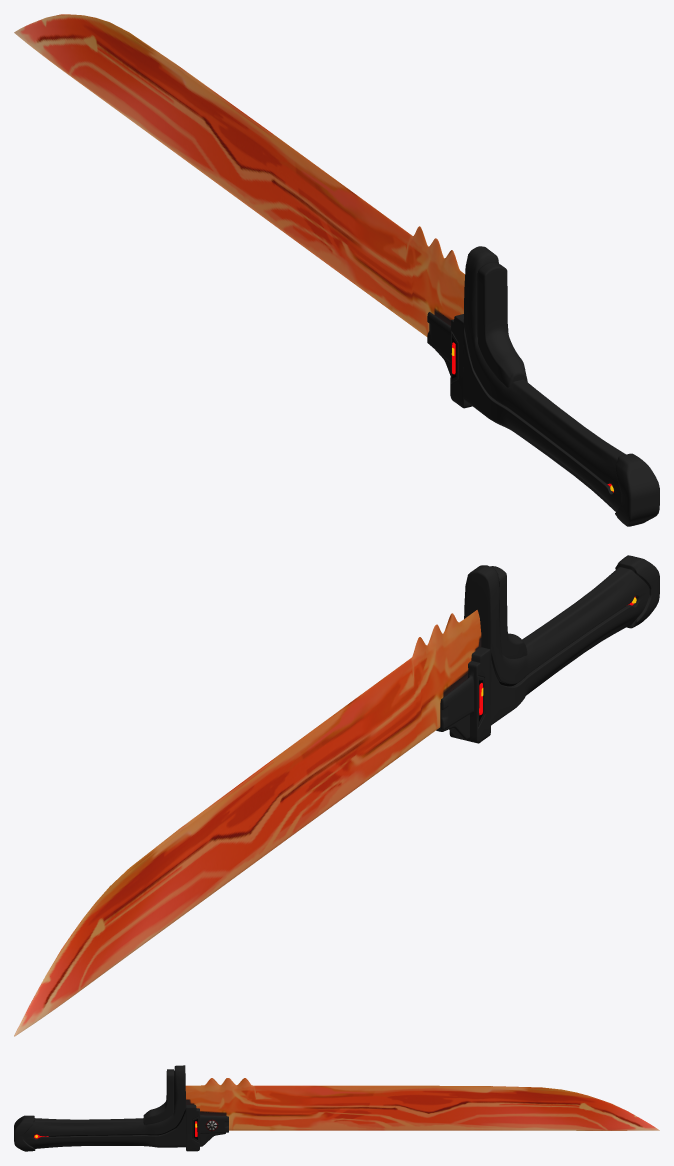
Rendered from blade-low-source.glb.
3 views of the same model, one above another, from view 1: azimuth 30°, elevation 25°; view 2: azimuth 150°, elevation 25°; view 3: azimuth 270°, elevation 25° (orthographic). The views are drawn at different scales.
Visible parts, largest first — view 1: Plane.001; view 2: Plane.001; view 3: Plane.001.
Boxes of the visible parts, x1,y1,x2,y2 form: Plane.001: [14, 14, 659, 526]; Plane.001: [14, 555, 659, 1036]; Plane.001: [14, 1065, 659, 1151].
Bounding box in the file's own units: 0.3512 × 1.79 × 12.51.
Materials: 6 (2 with a texture image).
